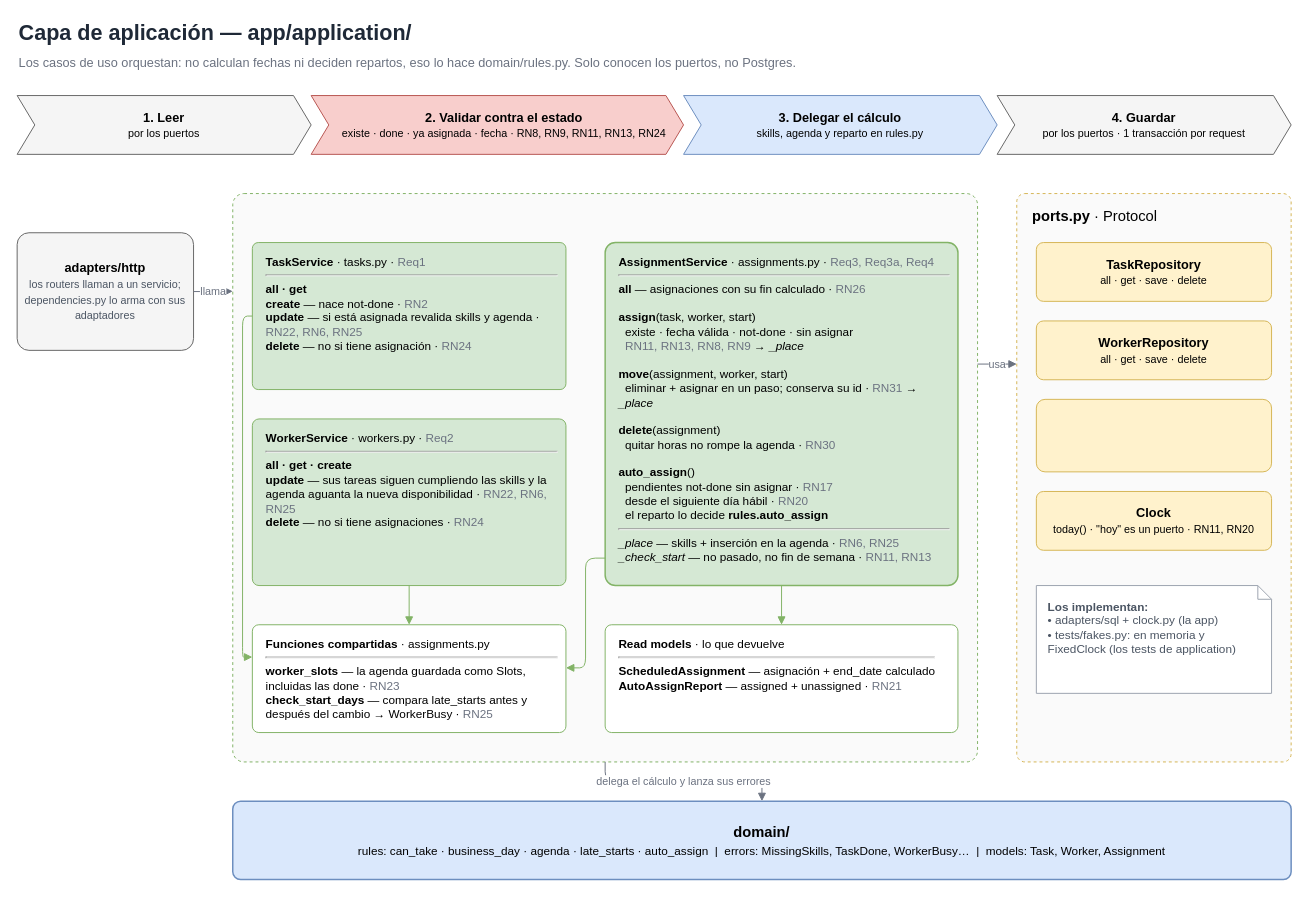
This 1309x897 diagram has some shape labels left out. The shapes that lost their labels are listed below. From the top down, each one's box as (x1, y1, x2, y2) in pixels, then its label:
(1035, 398, 1272, 472): AssignmentRepository all · get · save · delete get_by_task · list_by_worker
(232, 193, 978, 762): application/ · casos de uso
